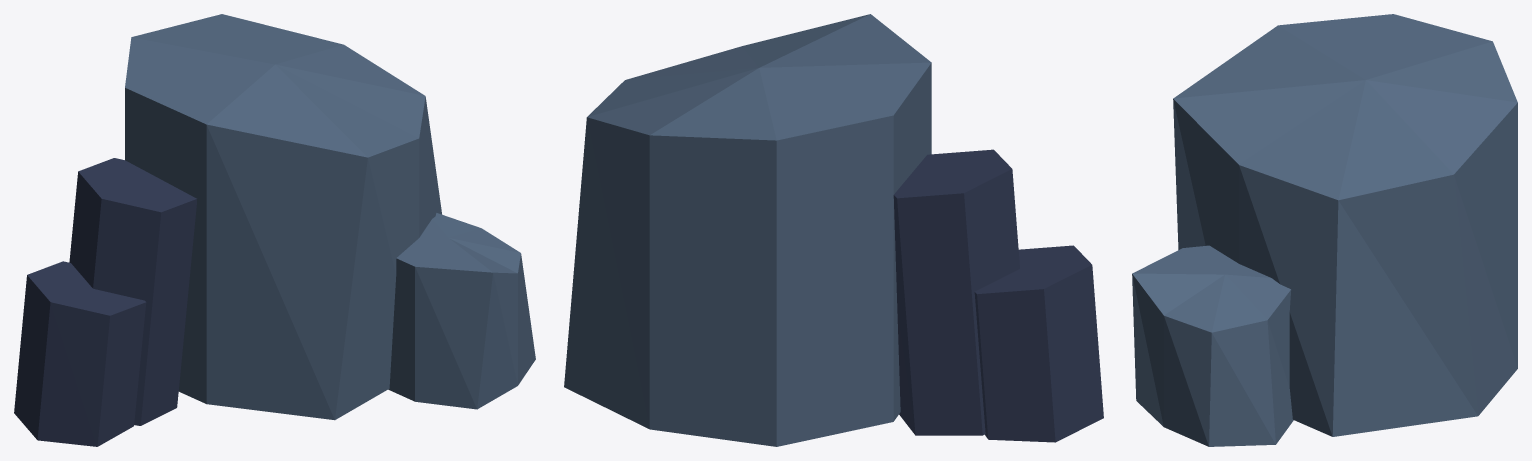
The model's file is pedras.glb.
3 renders of one model, left to right at view 1: azimuth 30°, elevation 25°; view 2: azimuth 150°, elevation 25°; view 3: azimuth 270°, elevation 25°, orthographic. The views are drawn at different scales.
Visible parts, largest first — view 1: Pedra maior — lateral, Pedra maior — lateral (cópia), Pedra menor — lateral, Pedra menor — lateral (cópia); view 2: Pedra maior — lateral, Pedra menor — lateral, Pedra menor — lateral (cópia); view 3: Pedra maior — lateral, Pedra maior — lateral (cópia).
Part boxes in pixels (x1=…): Pedra maior — lateral: x1=125, y1=14, x2=441, y2=420; Pedra maior — lateral (cópia): x1=388, y1=213, x2=535, y2=409; Pedra menor — lateral: x1=69, y1=158, x2=196, y2=425; Pedra menor — lateral (cópia): x1=14, y1=261, x2=146, y2=446; Pedra maior — lateral: x1=564, y1=14, x2=931, y2=446; Pedra menor — lateral: x1=893, y1=149, x2=1019, y2=435; Pedra menor — lateral (cópia): x1=974, y1=245, x2=1103, y2=442; Pedra maior — lateral: x1=1173, y1=14, x2=1517, y2=436; Pedra maior — lateral (cópia): x1=1132, y1=245, x2=1293, y2=446.
Size of the model in its own units: 3.87 by 2.3 by 2.85.
